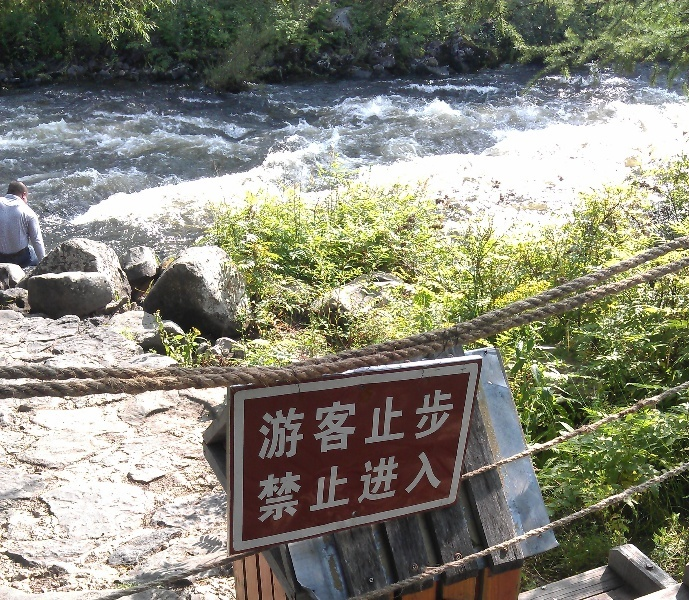text: (273, 445, 288, 526), (289, 445, 304, 526), (305, 445, 320, 526), (321, 445, 336, 526), (337, 445, 352, 526), (353, 445, 368, 526), (369, 445, 384, 526), (385, 445, 400, 526), (401, 445, 416, 526), (417, 445, 432, 526), (273, 386, 288, 462), (289, 386, 304, 462), (305, 386, 320, 462), (321, 386, 336, 462), (337, 386, 352, 462), (353, 386, 368, 462), (369, 386, 384, 462), (385, 386, 400, 462), (401, 386, 416, 462), (417, 386, 432, 462), (433, 386, 448, 462), (258, 445, 272, 526), (433, 445, 447, 526), (259, 386, 272, 462), (449, 386, 459, 462)
